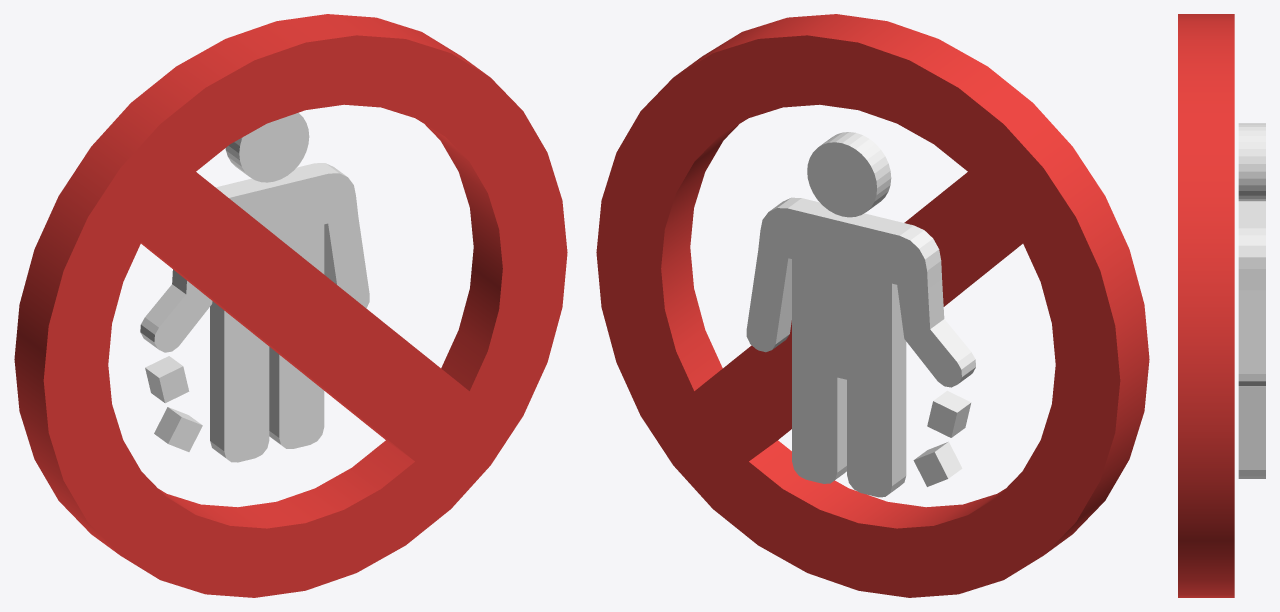
The model's file is no_littering.glb.
3 views of the same model, side by side, from view 1: azimuth 30°, elevation 25°; view 2: azimuth 150°, elevation 25°; view 3: azimuth 270°, elevation 25° (orthographic). The views are drawn at different scales.
Parts seen in each view (by area): view 1: Circle.2624, Cube.6307; view 2: Circle.2624, Cube.6307; view 3: Circle.2624, Cube.6307.
Boxes of the visible parts, x1,y1,x2,y2 form: Circle.2624: [14, 14, 567, 597]; Cube.6307: [140, 112, 369, 462]; Circle.2624: [596, 14, 1149, 597]; Cube.6307: [746, 132, 975, 497]; Circle.2624: [1178, 14, 1234, 597]; Cube.6307: [1238, 123, 1265, 478].
Size of the model in its own units: 1.92 by 1.92 by 0.2891.
1 material, 1 textured.
